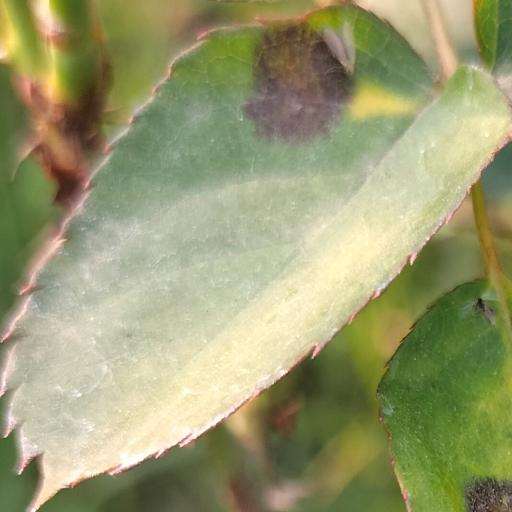black_spot: (4, 6, 512, 506)
